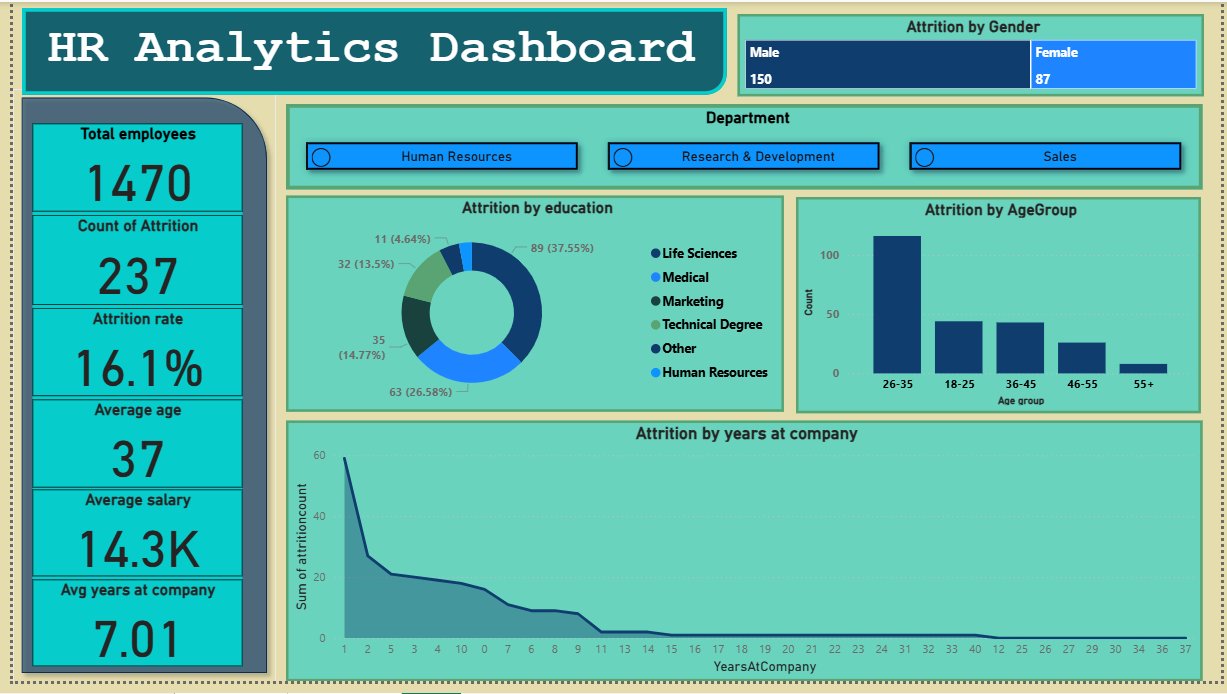

This screenshot's page, from the dashboard's own definition file:
{"tool":"powerbi","page":{"name":"Page 1","canvas":[1280,720],"ordinal":0},"visuals":[{"type":"card","title":"Total employees","fields":{"Values":["Sum(HR_Analytics.EmployeeCount)"]},"box":[20.9,129.1,222.7,93.6],"z":0,"group":"g2"},{"type":"donutChart","title":"Attrition by education","fields":{"Y":["Sum(HR_Analytics.attritioncount)"],"Category":["HR_Analytics.EducationField"]},"box":[289.5,205.2,528.1,229],"z":0},{"type":"columnChart","title":"Attrition by AgeGroup","fields":{"Y":["Sum(HR_Analytics.attritioncount)"],"Category":["HR_Analytics.AgeGroup"]},"box":[830.3,206.8,429.5,229],"z":1000},{"type":"card","title":"Count of Attrition","fields":{"Values":["Sum(HR_Analytics.attritioncount)"]},"box":[20.9,225.9,222.7,95.2],"z":1000,"group":"g2"},{"type":"card","title":"Attrition rate","fields":{"Values":["HR_Analytics.attrtionrate"]},"box":[20.9,324.3,222.7,93.6],"z":2000,"group":"g2"},{"type":"areaChart","title":"Attrition by years at company","fields":{"Category":["HR_Analytics.YearsAtCompany"],"Y":["Sum(HR_Analytics.attritioncount)"]},"box":[289.5,443.2,971.9,276.8],"z":2000},{"type":"treemap","title":"Attrition by Gender","fields":{"Group":["HR_Analytics.Gender"],"Values":["Sum(HR_Analytics.attritioncount)"]},"box":[768.3,12.7,494.7,87.5],"z":3000},{"type":"card","title":"Average age","fields":{"Values":["Avg(HR_Analytics.Age)"]},"box":[20.9,421.1,222.7,93.6],"z":3000,"group":"g2"},{"type":"advancedSlicerVisual","fields":{"Values":["HR_Analytics.Department"]},"box":[289.5,108.2,971.9,90.7],"z":4000},{"type":"card","title":"Average salary","fields":{"Values":["Avg(HR_Analytics.MonthlyRate)"]},"box":[20.9,517.9,222.7,92.1],"z":4000,"group":"g2"},{"type":"group","id":"g1","title":"Group 2","box":[0,92.1,278.4,628.3],"z":5000},{"type":"card","title":"Avg years at company","fields":{"Values":["Avg(HR_Analytics.YearsAtCompany)"]},"box":[20.9,613.2,222.7,92.1],"z":5000,"group":"g2"},{"type":"shape","box":[9.5,6.4,747.6,92.3],"z":6000},{"type":"shape","box":[0,92.1,278.4,628.3],"z":7000,"group":"g1"},{"type":"group","id":"g2","title":"Group 1","box":[20.9,129.1,222.7,576.1],"z":9000,"group":"g1"}]}

Visuals, with their boxes in screenshot pixels (x1, y1, x2, y2), scaled from the page's 1280x720 canvas onto the 1227x694 screenshot:
"Total employees" card: bbox(20, 124, 234, 215)
"Attrition by education" donutChart: bbox(278, 198, 784, 419)
"Attrition by AgeGroup" columnChart: bbox(796, 199, 1208, 420)
"Count of Attrition" card: bbox(20, 218, 234, 310)
"Attrition rate" card: bbox(20, 313, 234, 403)
"Attrition by years at company" areaChart: bbox(278, 427, 1209, 693)
"Attrition by Gender" treemap: bbox(736, 12, 1211, 97)
"Average age" card: bbox(20, 406, 234, 496)
advancedSlicerVisual - HR_Analytics.Department: bbox(278, 104, 1209, 192)
"Average salary" card: bbox(20, 499, 234, 588)
"Group 2" group: bbox(0, 89, 267, 693)
"Avg years at company" card: bbox(20, 591, 234, 680)
shape: bbox(9, 6, 726, 95)
shape: bbox(0, 89, 267, 693)
"Group 1" group: bbox(20, 124, 234, 680)
